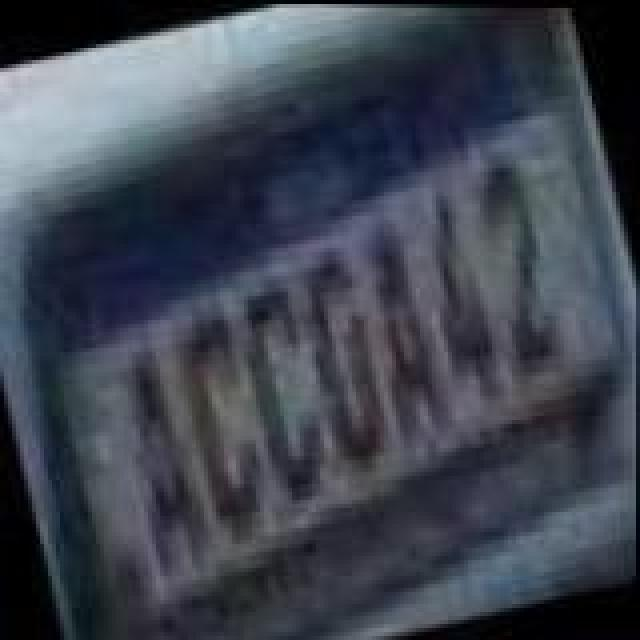2: (462, 152, 570, 380)
4: (406, 182, 518, 418)
A: (100, 342, 220, 594), (348, 208, 464, 452)
C: (160, 300, 288, 556), (230, 278, 346, 514)
D: (284, 240, 400, 472)
